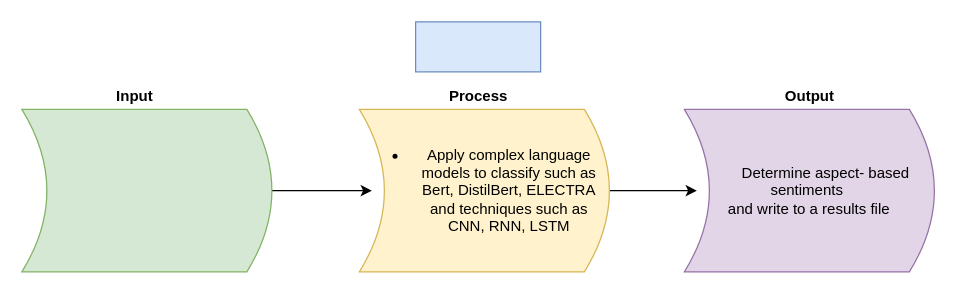
Some shapes in this 956 by 294 pixel diagram are drawn without their labels. Each missing label, with the centre of its shape:
Classification: pixel 477 46
Modified data after preprocessing: pixel 146 190
